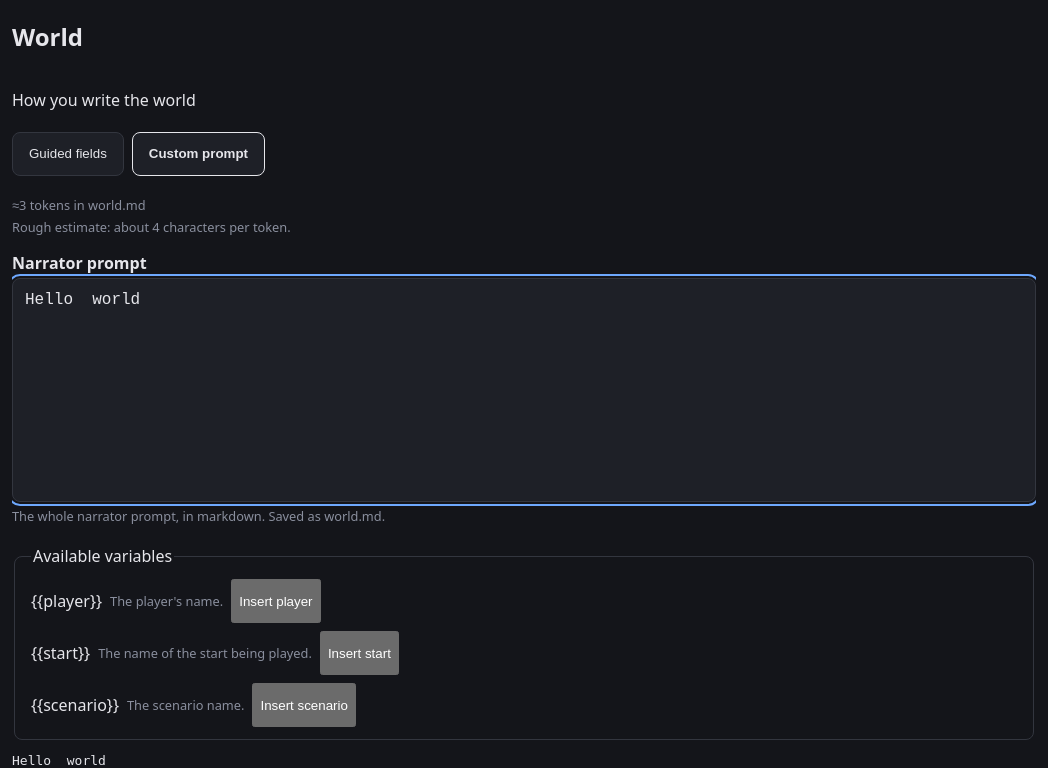
Test: WorldTab › inserting a variable writes it at the cursor position
Click the button "Insert player".
click(276, 601)  # box [231, 579, 320, 623]
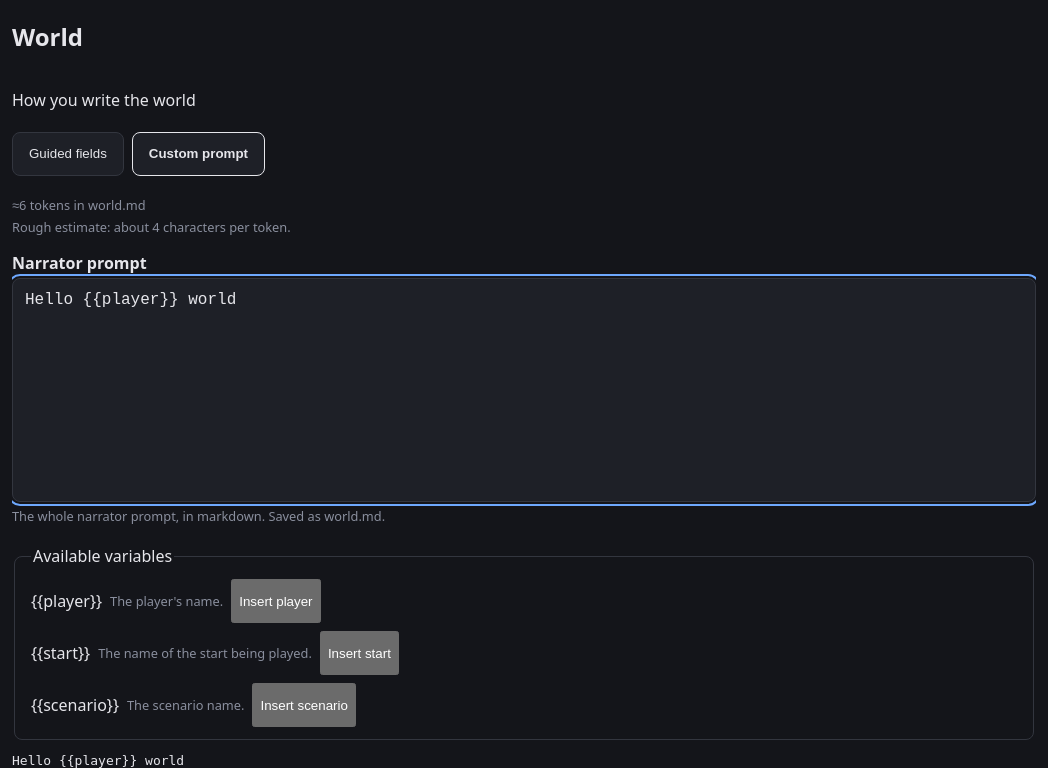
Expected: the text box labelled "Narrator prompt" holds "Hello {{player}} world", [12, 278, 1036, 502]
